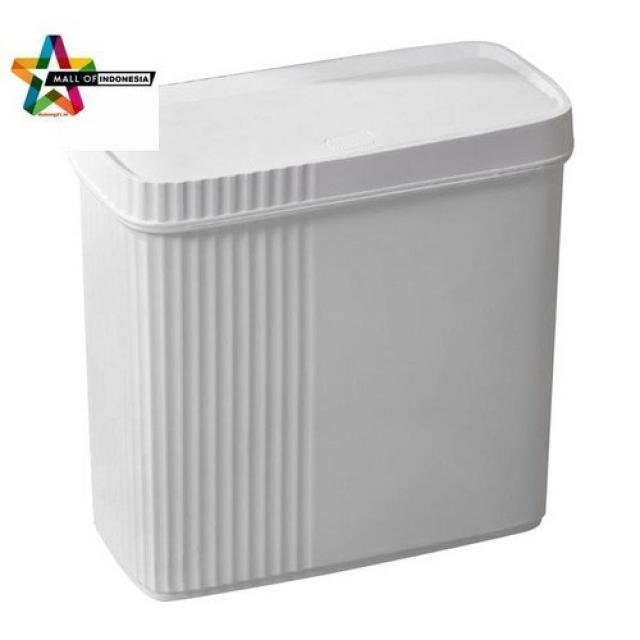Dumpster: (58, 35, 577, 608)
